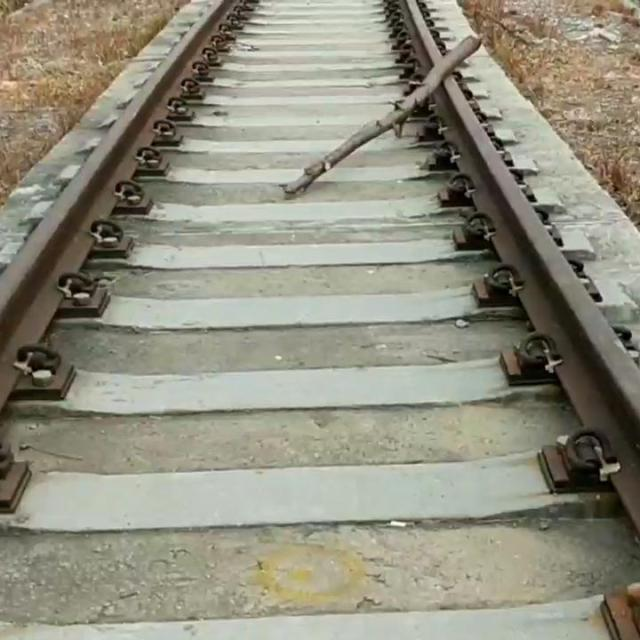danger: (267, 26, 494, 204)
rail: (0, 0, 233, 411), (436, 76, 640, 534), (401, 0, 442, 69)
